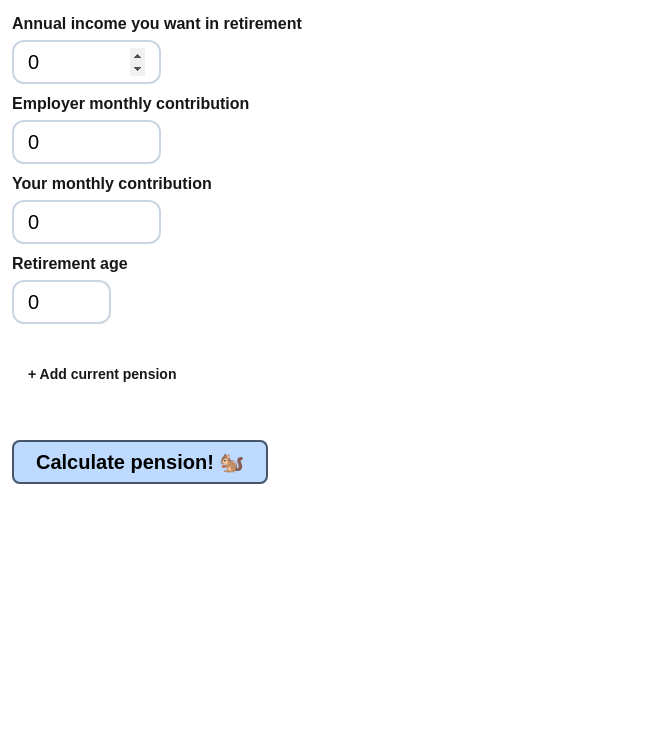
PensionTracker › should submit form without current pensions
This screenshot has width=648, height=740.
Step 1. Type "30000" into the number field labelled "Annual income you want in retirement" → coordinates (86, 62), box x1=12 y1=40 x2=160 y2=84
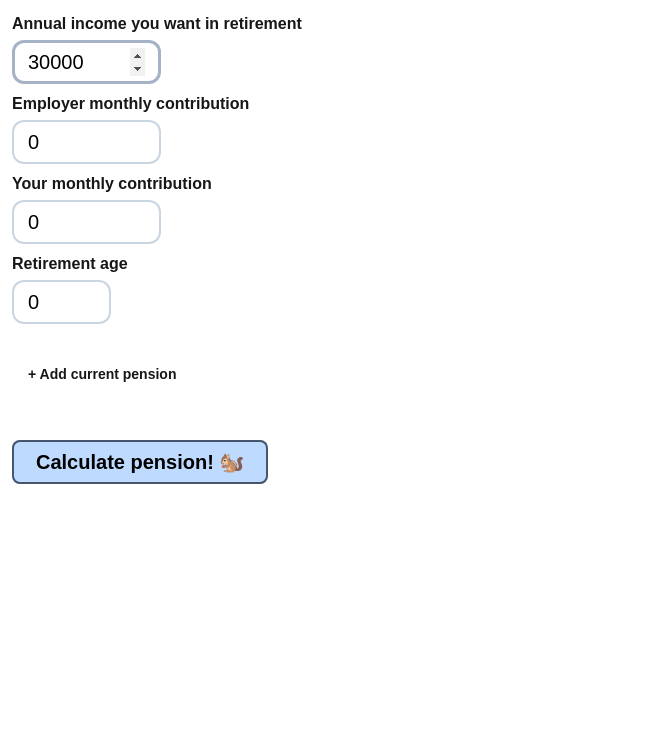
Step 2. Type "100" into the number field labelled "Employer monthly contribution" → coordinates (86, 142), box x1=12 y1=120 x2=160 y2=164
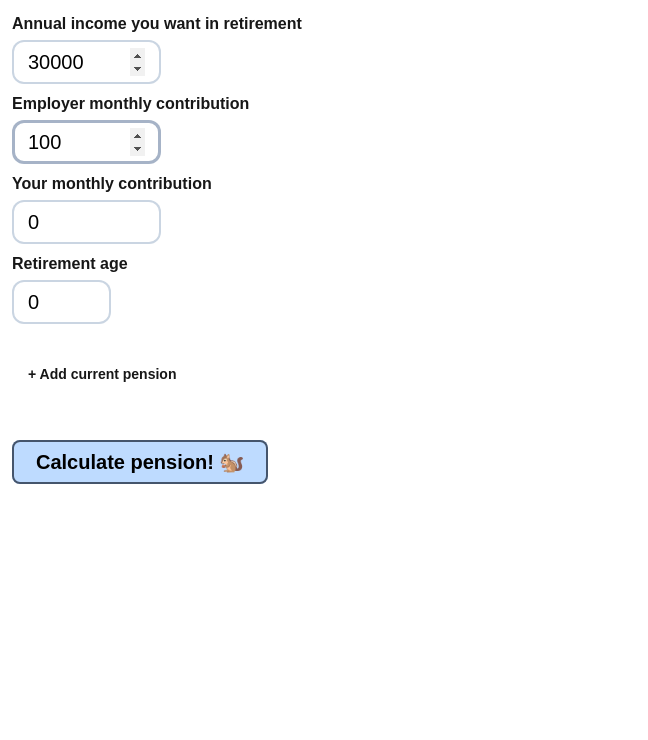
Step 3. Type "400" into the number field labelled "Your monthly contribution" → coordinates (86, 222), box x1=12 y1=200 x2=160 y2=244
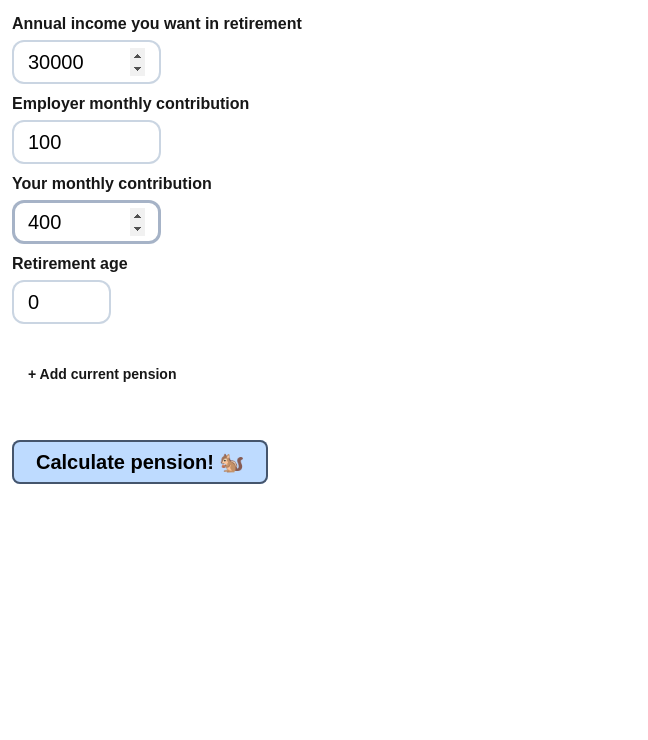
Step 4. Type "55" into the number field labelled "Retirement age" → coordinates (62, 302), box x1=12 y1=280 x2=111 y2=324
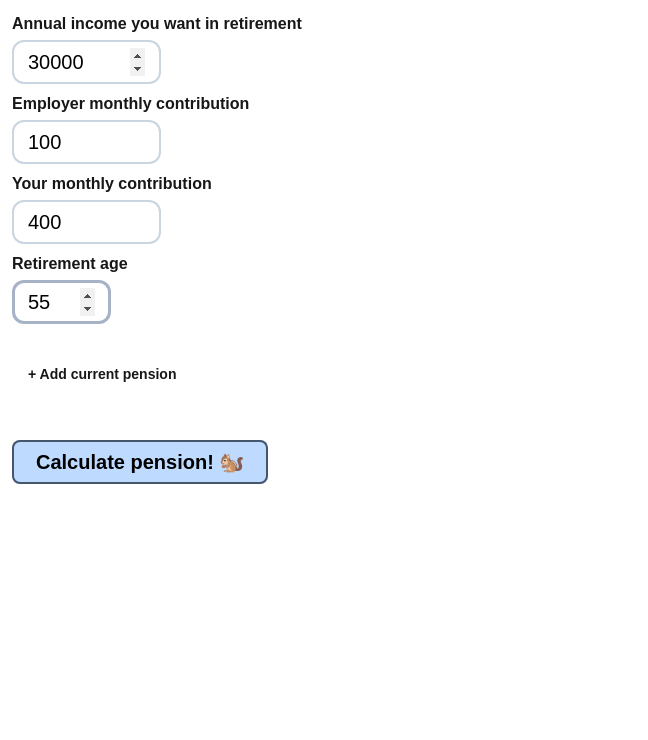
Step 5. Click the button "Calculate pension! 🐿️" → coordinates (140, 462), box x1=12 y1=440 x2=268 y2=484
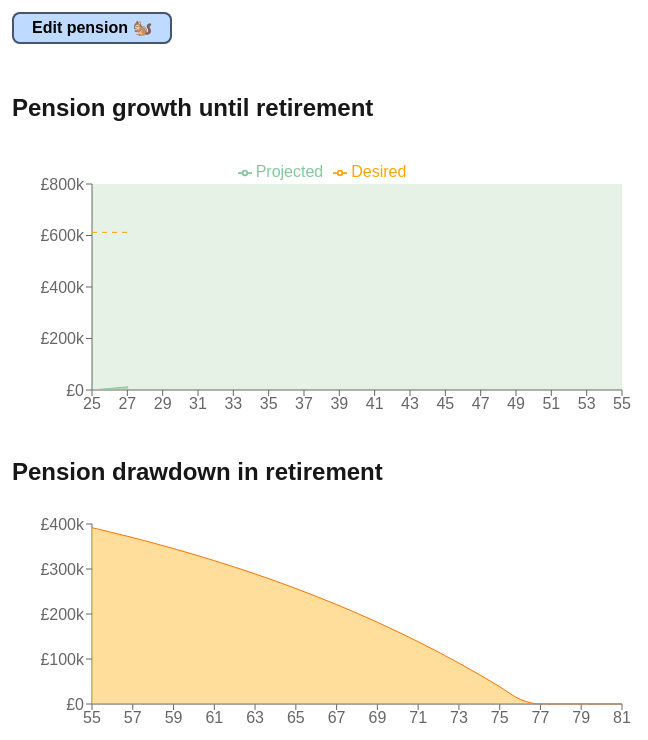
Expected: the heading "Pension growth until retirement" is shown, x1=12 y1=94 x2=373 y2=121
Expected: the heading "Pension drawdown in retirement" is shown, x1=12 y1=458 x2=383 y2=485
